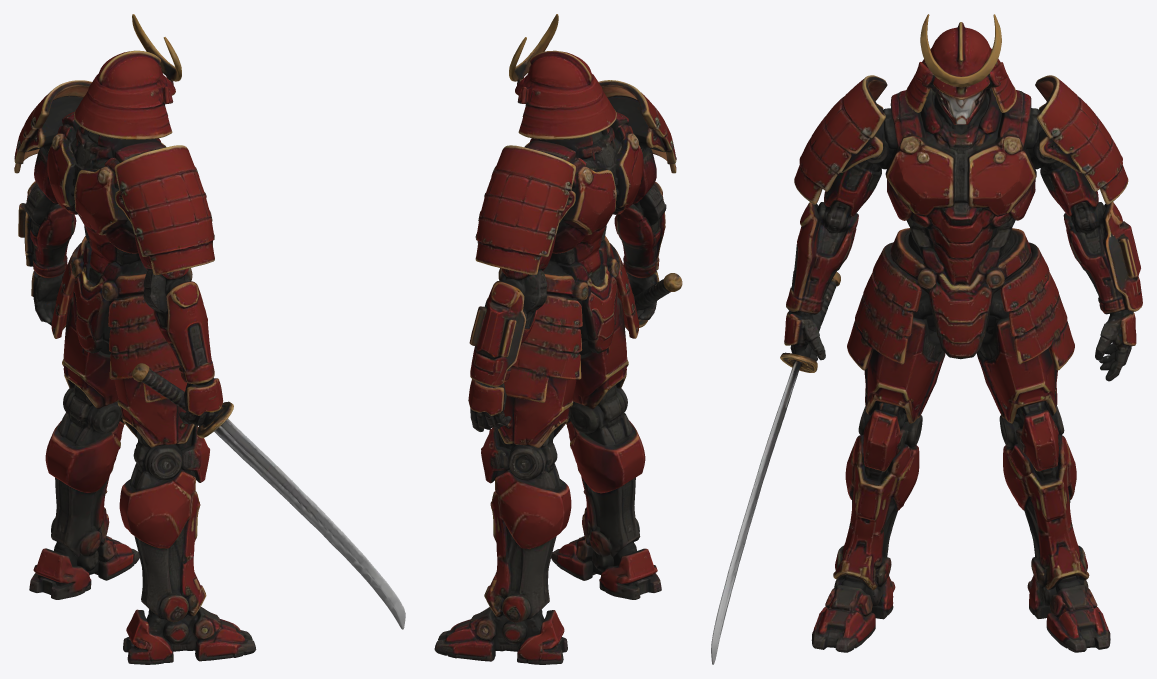
Rendered from 2f5656fc-e857-46ac-85f7-64cf547038cc-model_url.glb.
The picture shows the model from 3 angles, left to right: view 1: azimuth 30°, elevation 25°; view 2: azimuth 150°, elevation 25°; view 3: azimuth 270°, elevation 25°; orthographic projection. The views are drawn at different scales.
Visible parts, largest first — view 1: tripo_node_2f5656fc-e857-46ac-85f7-64cf547038cc; view 2: tripo_node_2f5656fc-e857-46ac-85f7-64cf547038cc; view 3: tripo_node_2f5656fc-e857-46ac-85f7-64cf547038cc.
Boxes of the visible parts, bbox=[...] form: tripo_node_2f5656fc-e857-46ac-85f7-64cf547038cc: bbox=[14, 14, 405, 664]; tripo_node_2f5656fc-e857-46ac-85f7-64cf547038cc: bbox=[434, 14, 682, 664]; tripo_node_2f5656fc-e857-46ac-85f7-64cf547038cc: bbox=[711, 14, 1142, 664].
Size of the model in its own units: 0.391 by 1 by 0.6348.
Materials: 1 (1 with a texture image).
